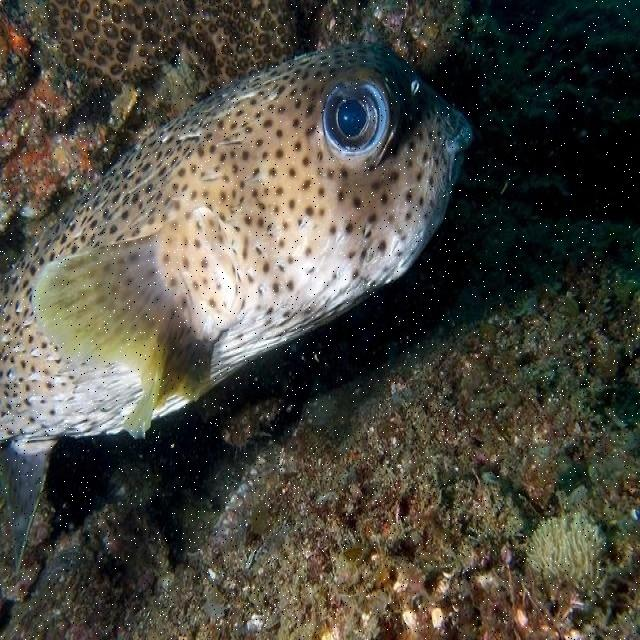fish: (0, 41, 472, 455)
reefs: (530, 516, 606, 596)
